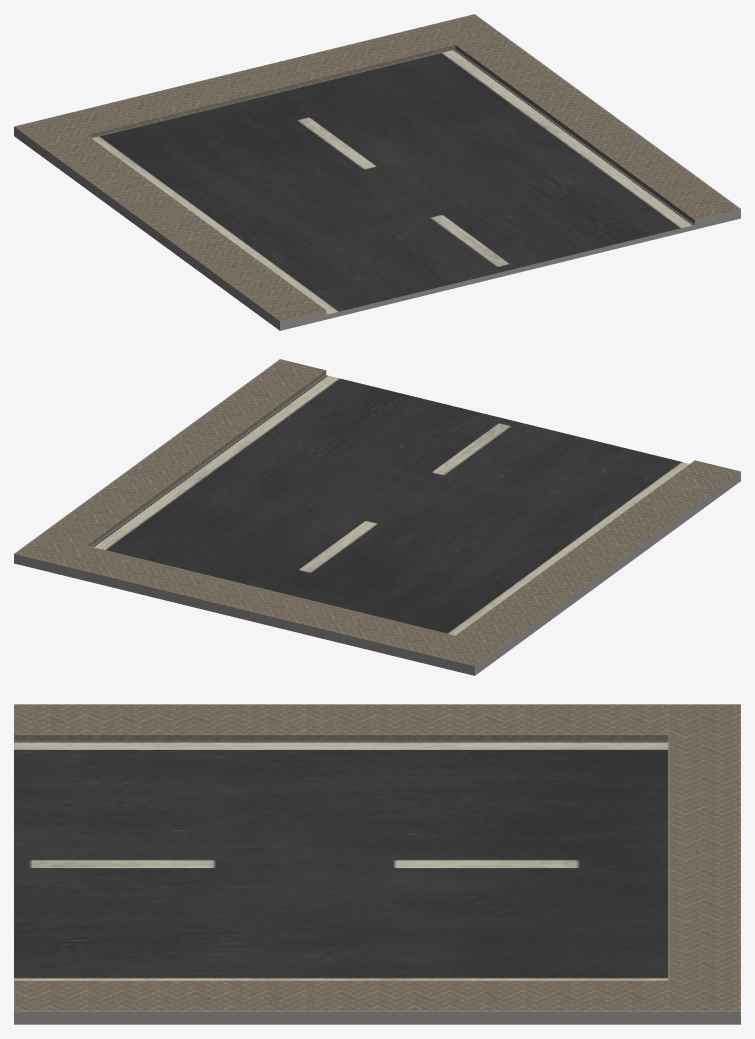
The model's file is road_end.glb.
The picture shows the model from 3 angles, top to bottom: view 1: azimuth 30°, elevation 25°; view 2: azimuth 150°, elevation 25°; view 3: azimuth 270°, elevation 25°; orthographic projection. The views are drawn at different scales.
Visible parts, largest first — view 1: Cube; view 2: Cube; view 3: Cube.
Part boxes in pixels (<box>): Cube: <box>14,14,740,330</box>; Cube: <box>14,359,740,675</box>; Cube: <box>14,704,740,1024</box>.
Size of the model in its own units: 15 by 0.3 by 15.
Materials: 1 (1 with a texture image).
